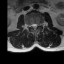CCS_normal: (33, 22, 35, 31)
LFS_stenosis: (38, 22, 40, 28)
LLS_normal: (35, 22, 38, 29)
RFS_normal: (28, 23, 30, 29)
RLS_normal: (30, 23, 33, 29)
